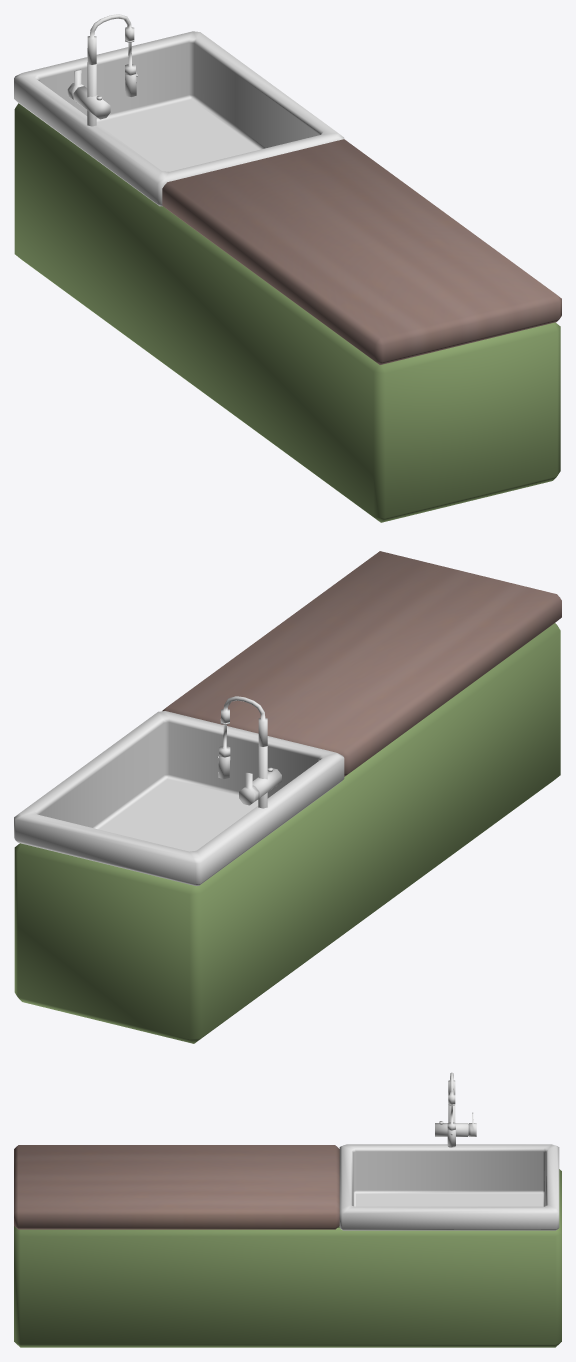
File: Bakery_Sink_01.fbx
The picture shows the model from 3 angles, top to bottom: view 1: azimuth 30°, elevation 25°; view 2: azimuth 150°, elevation 25°; view 3: azimuth 270°, elevation 25°; orthographic projection. The views are drawn at different scales.
Visible parts, largest first — view 1: Bakery_Sink_01; view 2: Bakery_Sink_01; view 3: Bakery_Sink_01.
Boxes of the visible parts, x1=… form: Bakery_Sink_01: x1=14, y1=14, x2=561, y2=522; Bakery_Sink_01: x1=14, y1=551, x2=561, y2=1043; Bakery_Sink_01: x1=14, y1=1072, x2=561, y2=1347.
Bounding box in the file's own units: 124 × 185 × 423.
